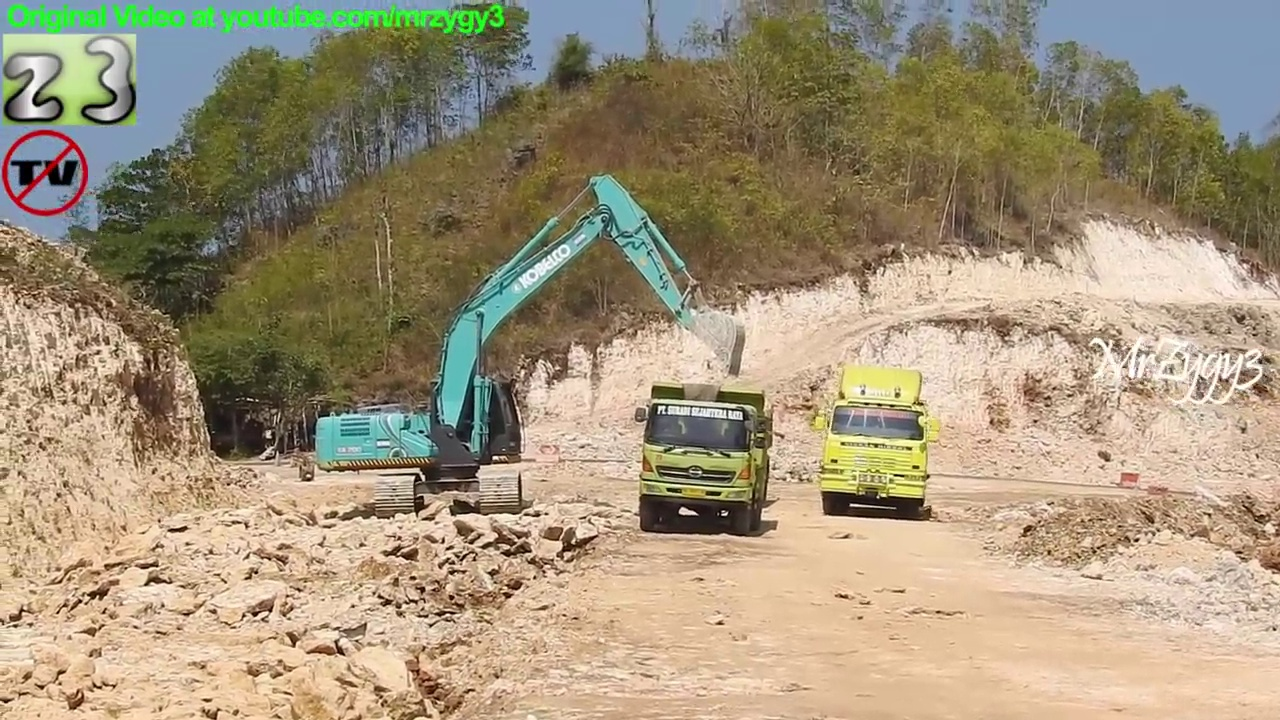excavator: (310, 168, 751, 523)
truck: (631, 379, 778, 537), (810, 362, 947, 521)
